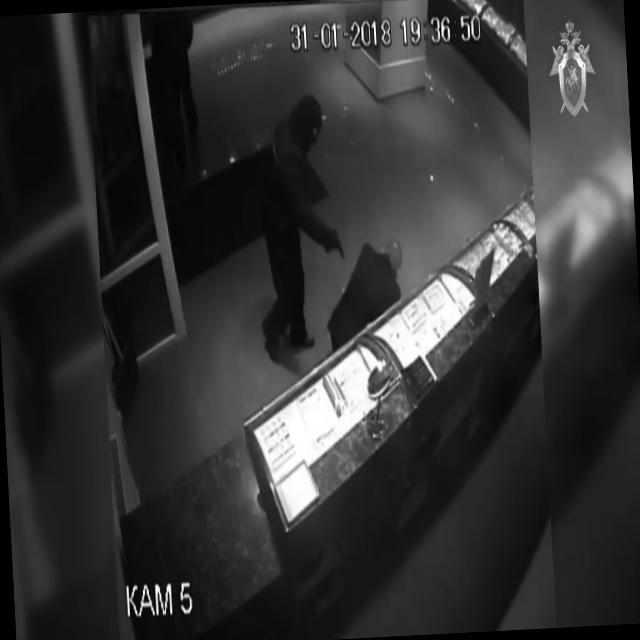gun: (324, 225, 346, 260)
person: (338, 222, 426, 324)
person with a gun: (250, 92, 350, 362)
